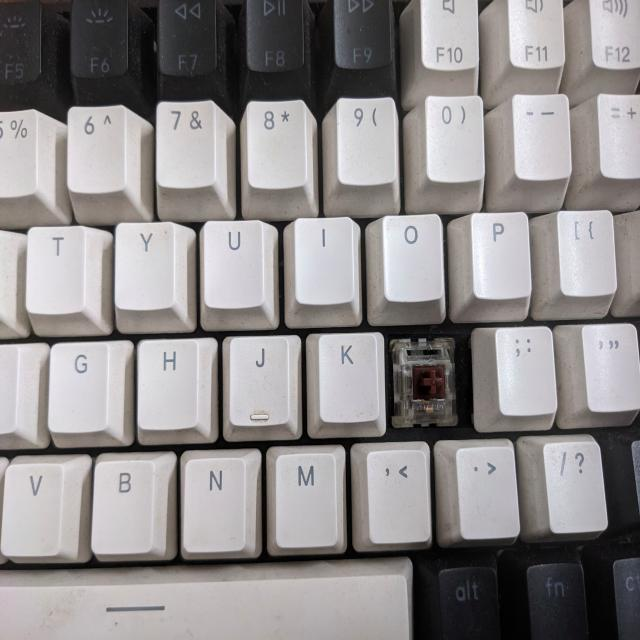C: (388, 334, 474, 428)
